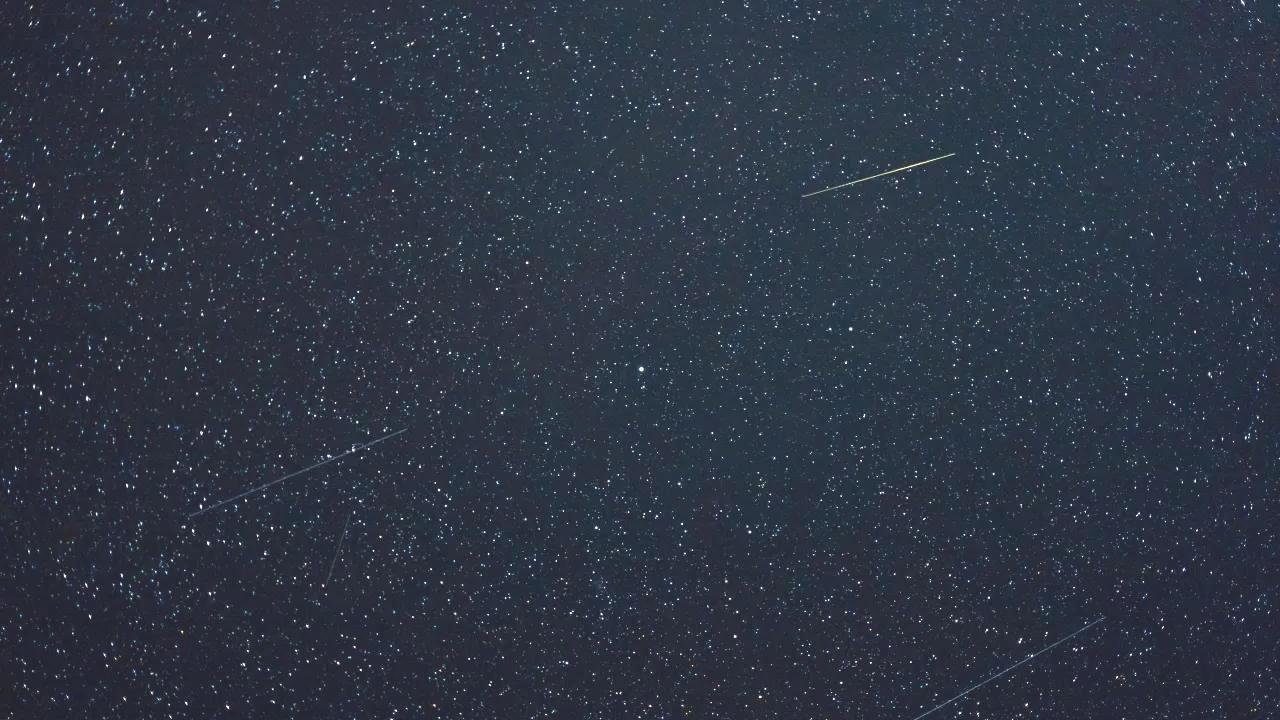meteorite: (185, 398, 438, 522), (893, 623, 1108, 706), (765, 142, 982, 204), (297, 517, 361, 588)
